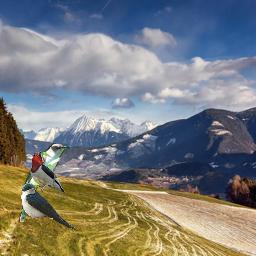Cuckoo: (19, 143, 70, 222)
Swallow: (21, 183, 76, 230)
Woodpecker: (29, 149, 67, 198)
